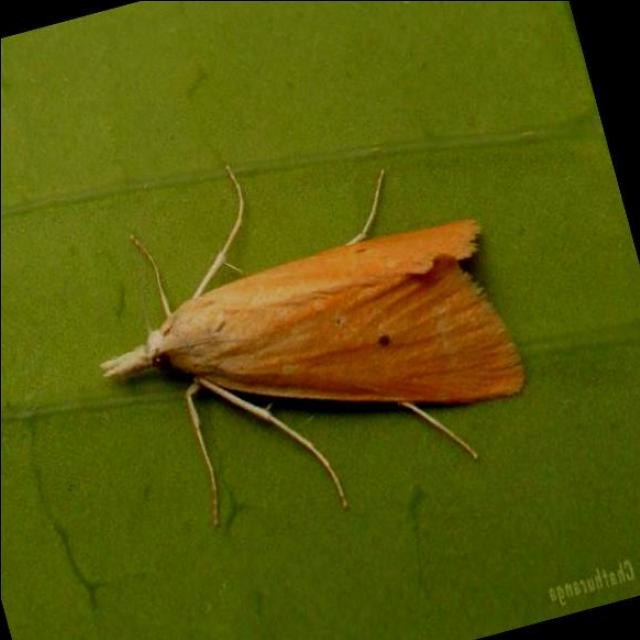stem borer: (101, 165, 523, 519)
